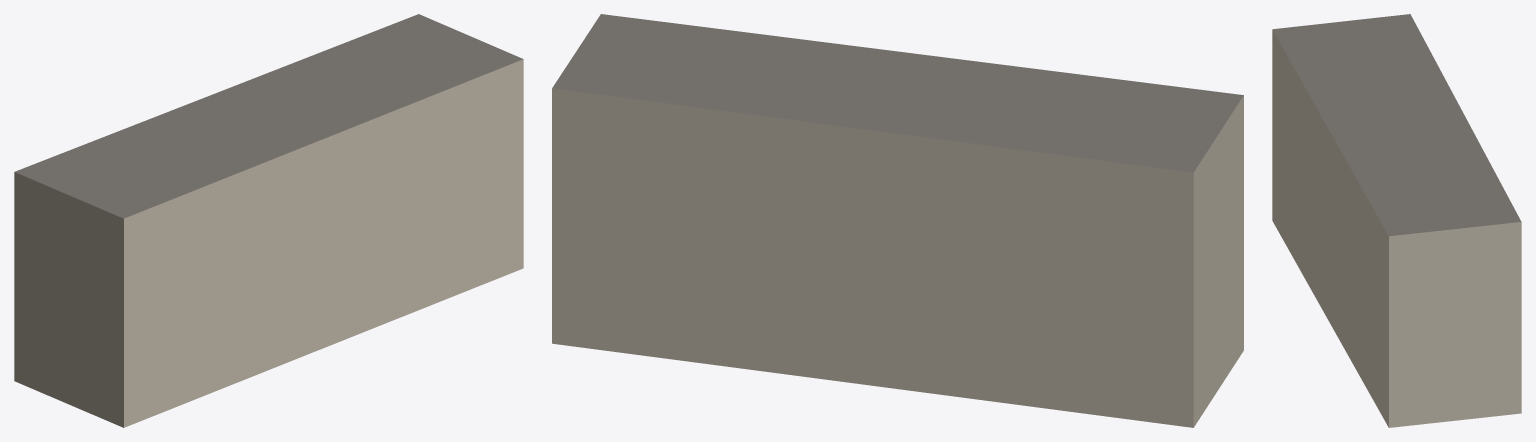
3 renders of one model, left to right at view 1: azimuth 30°, elevation 25°; view 2: azimuth 150°, elevation 25°; view 3: azimuth 270°, elevation 25°, orthographic. The views are drawn at different scales.
Parts seen in each view (by area): view 1: HP-w505664422; view 2: HP-w505664422; view 3: HP-w505664422.
Part boxes in pixels (x1,y1,x2,y2): HP-w505664422: (14, 14, 523, 427); HP-w505664422: (552, 14, 1243, 427); HP-w505664422: (1272, 14, 1521, 427).
Size of the model in its own units: 37.32 by 15 by 17.67.
